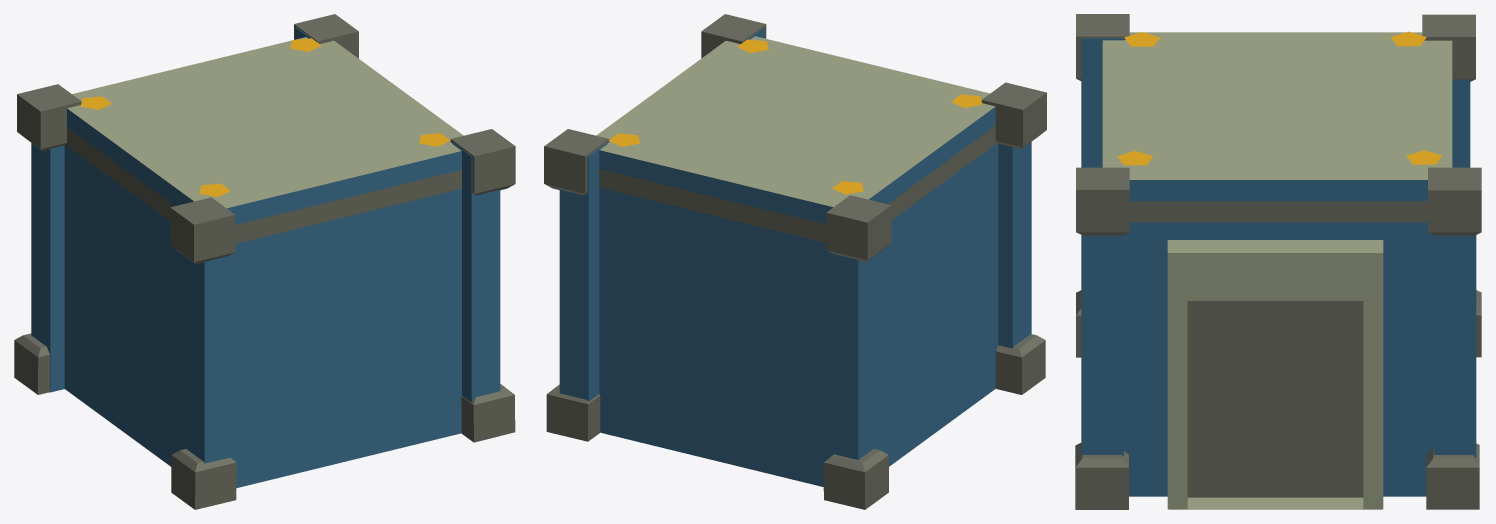
File: blok dasar.glb
The picture shows the model from 3 angles, left to right: view 1: azimuth 30°, elevation 25°; view 2: azimuth 150°, elevation 25°; view 3: azimuth 270°, elevation 25°; orthographic projection. The views are drawn at different scales.
Parts seen in each view (by area): view 1: Cube.018, Cube.016, Cube.015, Cube.014, Circle.004; view 2: Cube.018, Cube.016, Cube.015, Cube.014, Circle.004; view 3: Cube.018, Cube.017, Cube.016, Cube.015, Cube.014, Circle.004.
Part boxes in pixels (x1=…): Cube.018: x1=64, y1=37, x2=463, y2=488; Cube.016: x1=31, y1=27, x2=500, y2=463; Cube.015: x1=17, y1=14, x2=515, y2=264; Cube.014: x1=14, y1=333, x2=515, y2=509; Circle.004: x1=80, y1=38, x2=450, y2=196; Cube.018: x1=596, y1=36, x2=998, y2=486; Cube.016: x1=559, y1=27, x2=1031, y2=459; Cube.015: x1=544, y1=14, x2=1046, y2=262; Cube.014: x1=546, y1=334, x2=1045, y2=509; Circle.004: x1=608, y1=39, x2=982, y2=194; Cube.018: x1=1102, y1=32, x2=1452, y2=496; Cube.017: x1=1167, y1=240, x2=1383, y2=509; Cube.016: x1=1081, y1=38, x2=1476, y2=457; Cube.015: x1=1076, y1=14, x2=1481, y2=235; Cube.014: x1=1075, y1=290, x2=1481, y2=509; Circle.004: x1=1117, y1=31, x2=1442, y2=165.
Size of the model in its own units: 2.39 by 2.03 by 2.33.
